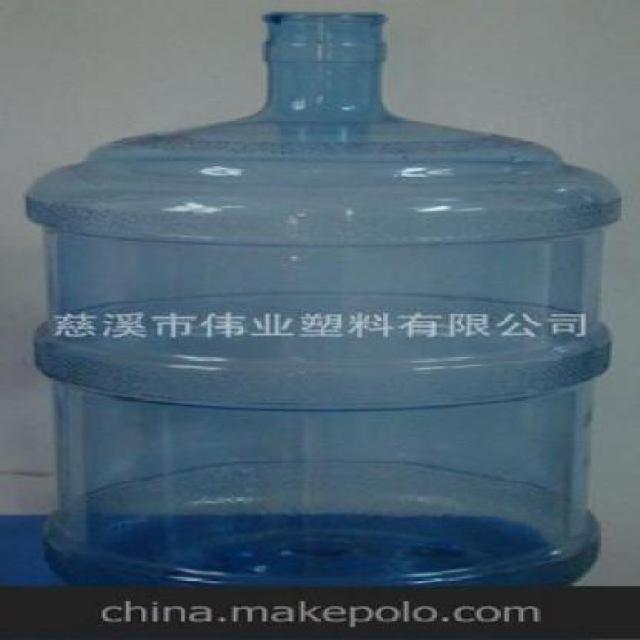coolerbottle: (3, 4, 623, 592)
